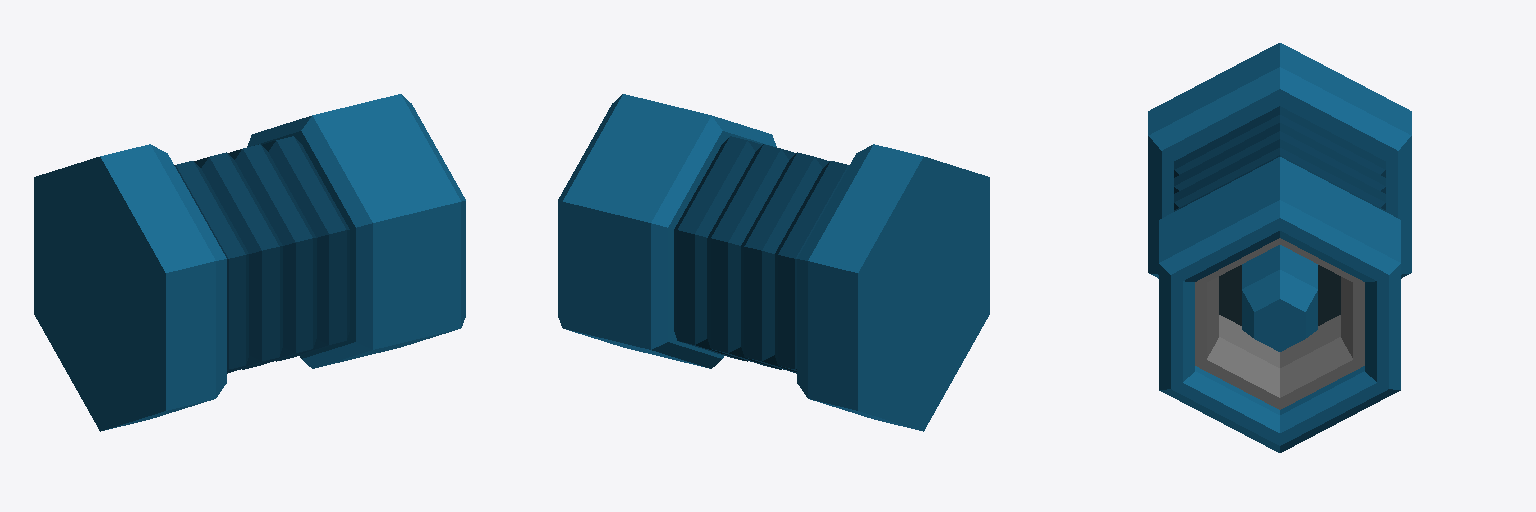
Rendered from Spacestation_Weapon_Flush_Mount_Cannon.obj.
The picture shows the model from 3 angles: view 1: azimuth 30°, elevation 25°; view 2: azimuth 150°, elevation 25°; view 3: azimuth 270°, elevation 25°; orthographic projection.
Visible parts, largest first — view 1: object1, object6, object7; view 2: object1, object6, object7; view 3: object6, object1, object5, object7, object3, object4.
Boxes of the visible parts, x1=… form: object1: x1=34, y1=144, x2=226, y2=431; object6: x1=247, y1=94, x2=465, y2=368; object7: x1=174, y1=136, x2=349, y2=373; object1: x1=797, y1=144, x2=989, y2=431; object6: x1=558, y1=94, x2=776, y2=368; object7: x1=674, y1=136, x2=849, y2=373; object6: x1=1159, y1=157, x2=1400, y2=452; object1: x1=1148, y1=43, x2=1411, y2=278; object5: x1=1195, y1=238, x2=1364, y2=409; object7: x1=1174, y1=106, x2=1385, y2=211; object3: x1=1242, y1=245, x2=1317, y2=351; object4: x1=1219, y1=265, x2=1340, y2=325.
Size of the model in its own units: 0.4082 by 0.3445 by 0.2984.